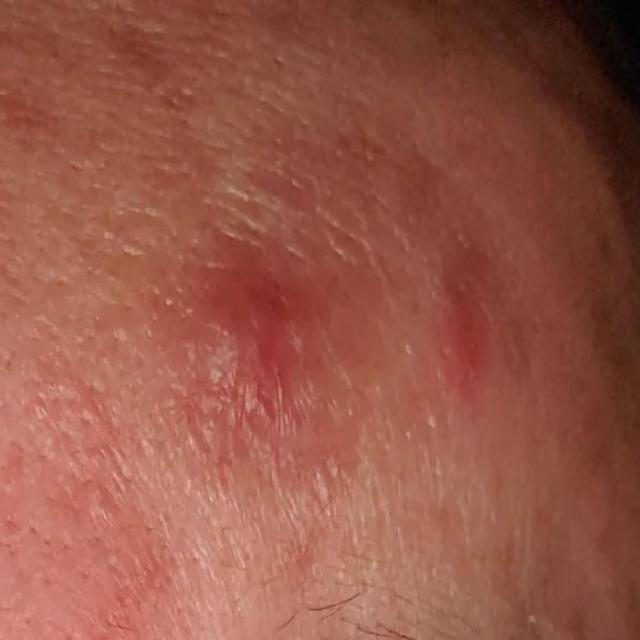nodule: (194, 264, 319, 437)
